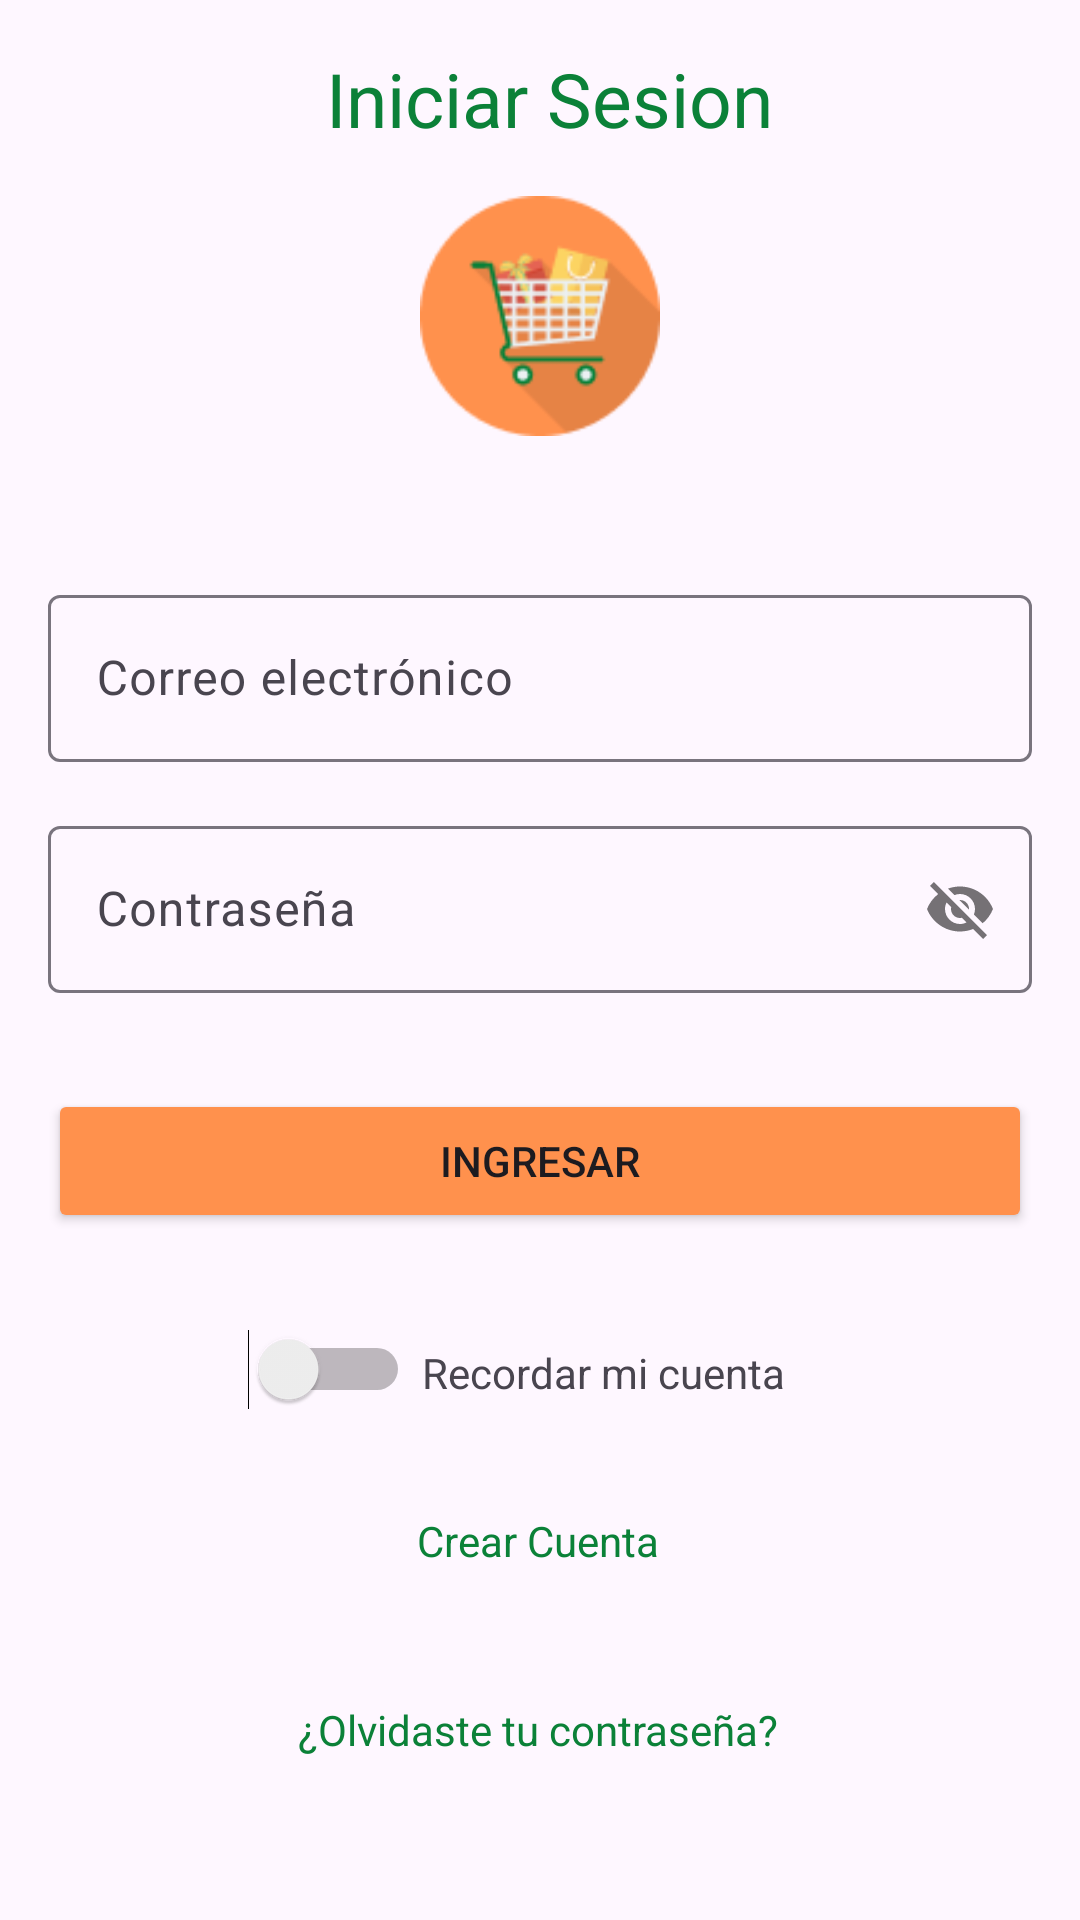

Screen size 1080px×1920px. Icon name, then its box in pixels as detection(x1, y1, x2, y2):
market: detection(420, 196, 660, 436)
